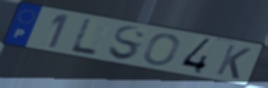1: (45, 12, 70, 49)
4: (179, 37, 213, 77)
K: (214, 43, 253, 81)
L: (68, 17, 99, 57)
O: (141, 33, 182, 67)
S: (106, 25, 147, 62)
